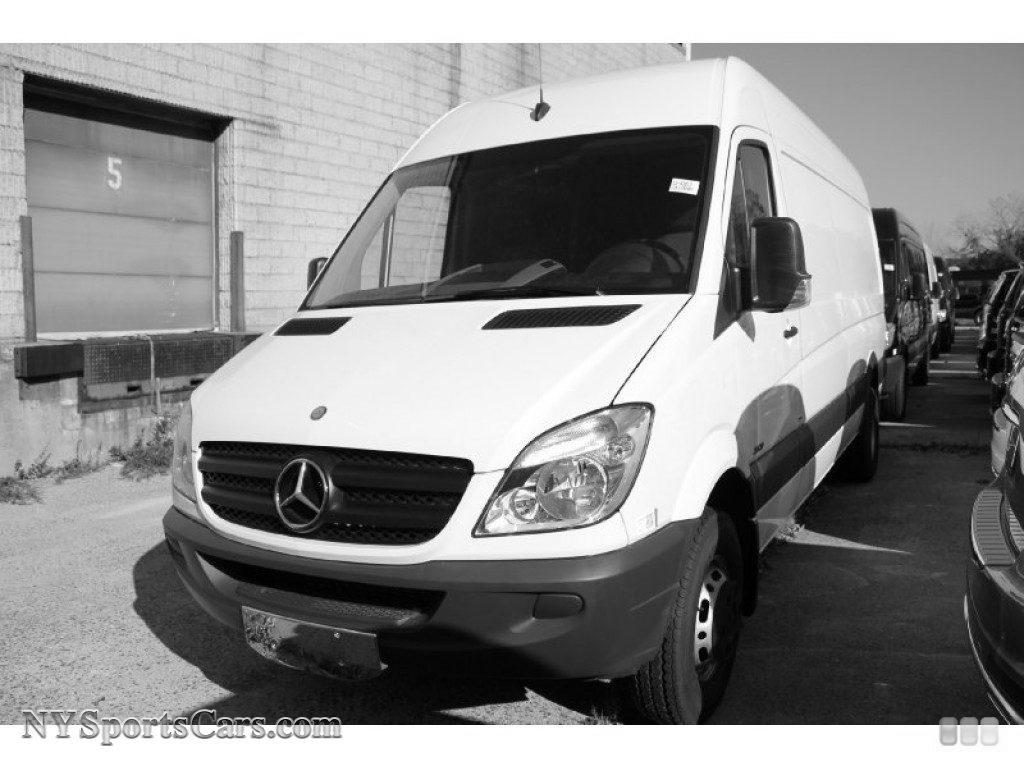car: (160, 49, 898, 694)
